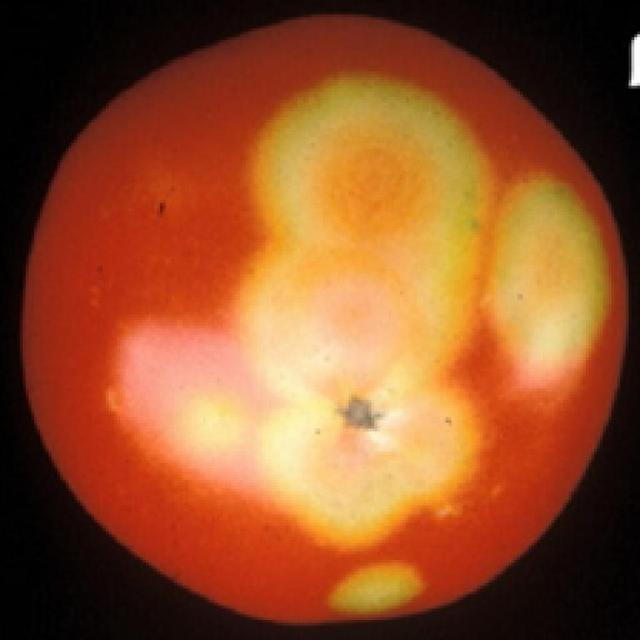Spotted wilt Virus Fruit: (14, 7, 419, 417)
